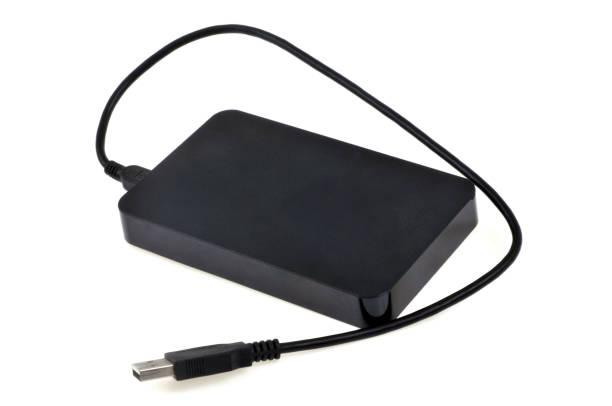HDD: (117, 110, 478, 330)
